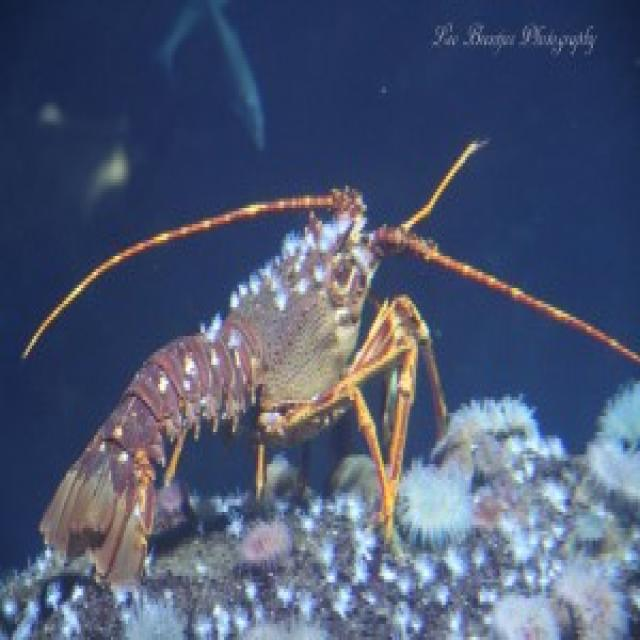lobsters: (11, 86, 640, 584)
